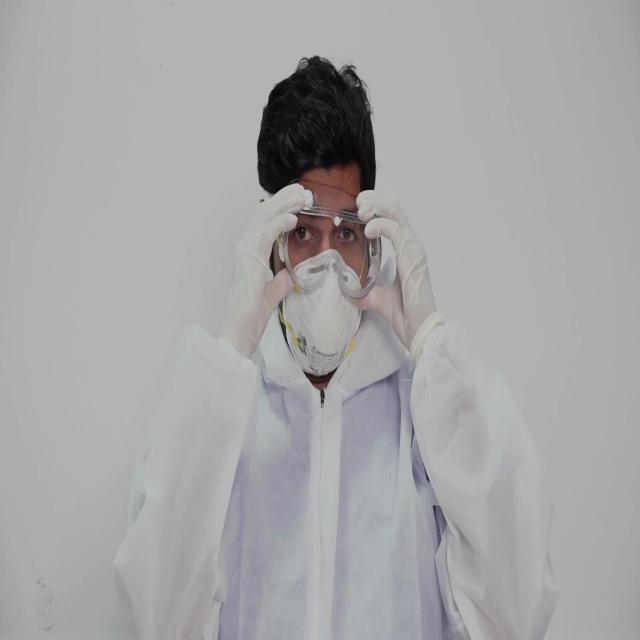Gloves: (223, 181, 305, 363), (356, 188, 436, 350)
Goggles: (279, 180, 382, 304)
